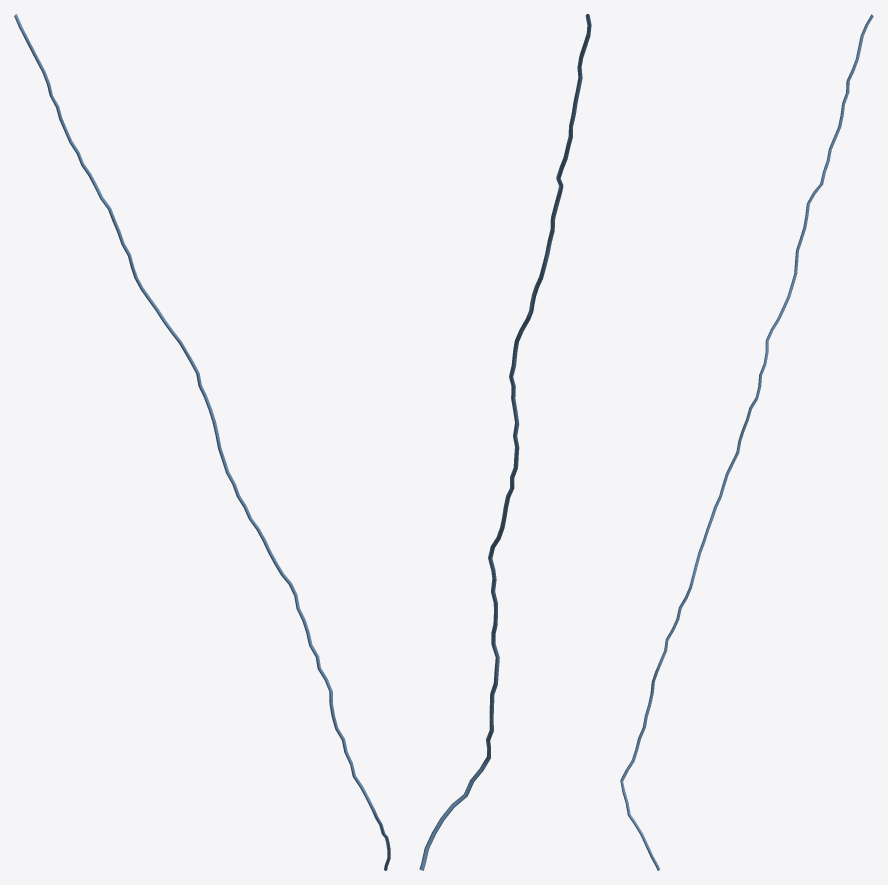
The model's file is sweep271.fbx.
The picture shows the model from 3 angles, left to right: view 1: azimuth 30°, elevation 25°; view 2: azimuth 150°, elevation 25°; view 3: azimuth 270°, elevation 25°; orthographic projection. The views are drawn at different scales.
Visible parts, largest first — view 1: sweep271; view 2: sweep271; view 3: sweep271.
Boxes of the visible parts, <box> form: sweep271: <box>14,14,390,870</box>; sweep271: <box>419,14,591,870</box>; sweep271: <box>620,14,873,870</box>.
Size of the model in its own units: 1.63 by 5.09 by 1.57.
